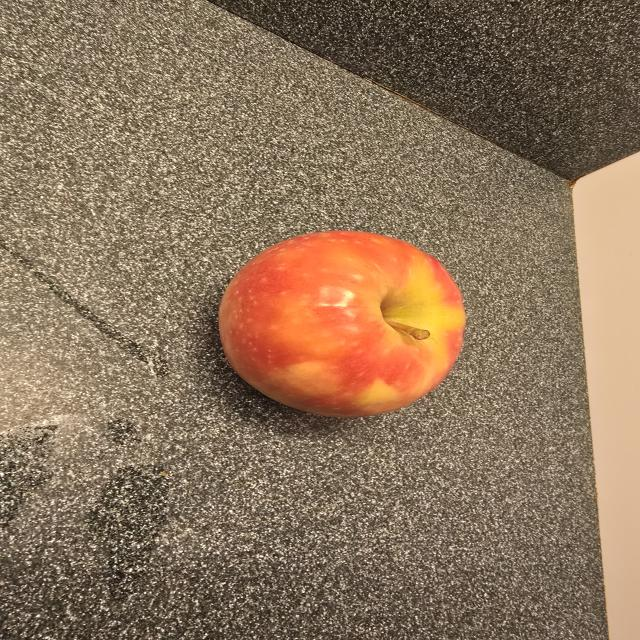Apple: (219, 232, 465, 417)
